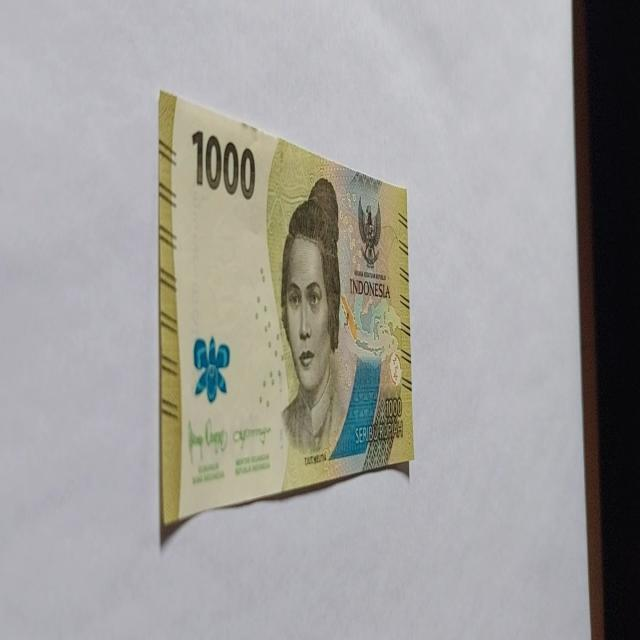seribu rupiah kertas: (156, 88, 414, 539)
